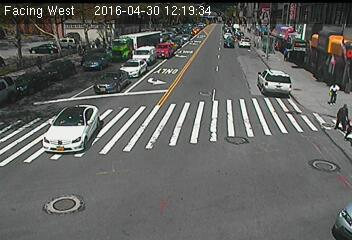neg: (205, 122, 224, 146), (88, 69, 104, 91), (260, 68, 273, 86), (236, 34, 249, 51), (73, 106, 85, 122), (177, 27, 189, 43)
pos: (325, 77, 346, 105), (332, 101, 351, 131)
